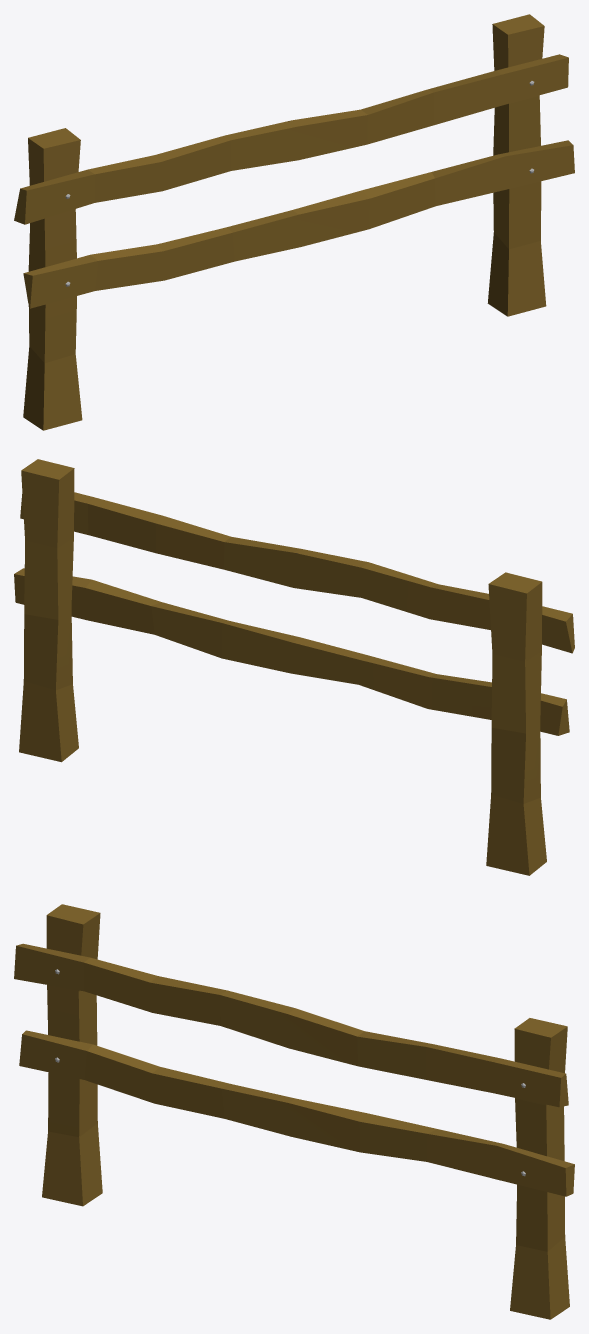
File: Minigame_fence.fbx
3 views of the same model, one above another, from view 1: azimuth 30°, elevation 25°; view 2: azimuth 150°, elevation 25°; view 3: azimuth 330°, elevation 25° (orthographic).
Parts seen in each view (by area): view 1: Fence; view 2: Fence; view 3: Fence.
Part boxes in pixels (x1,y1,x2,y2): Fence: (14,14,574,430); Fence: (14,459,574,875); Fence: (14,904,574,1319).
Bounding box in the file's own units: 207 × 99.61 × 16.57.
